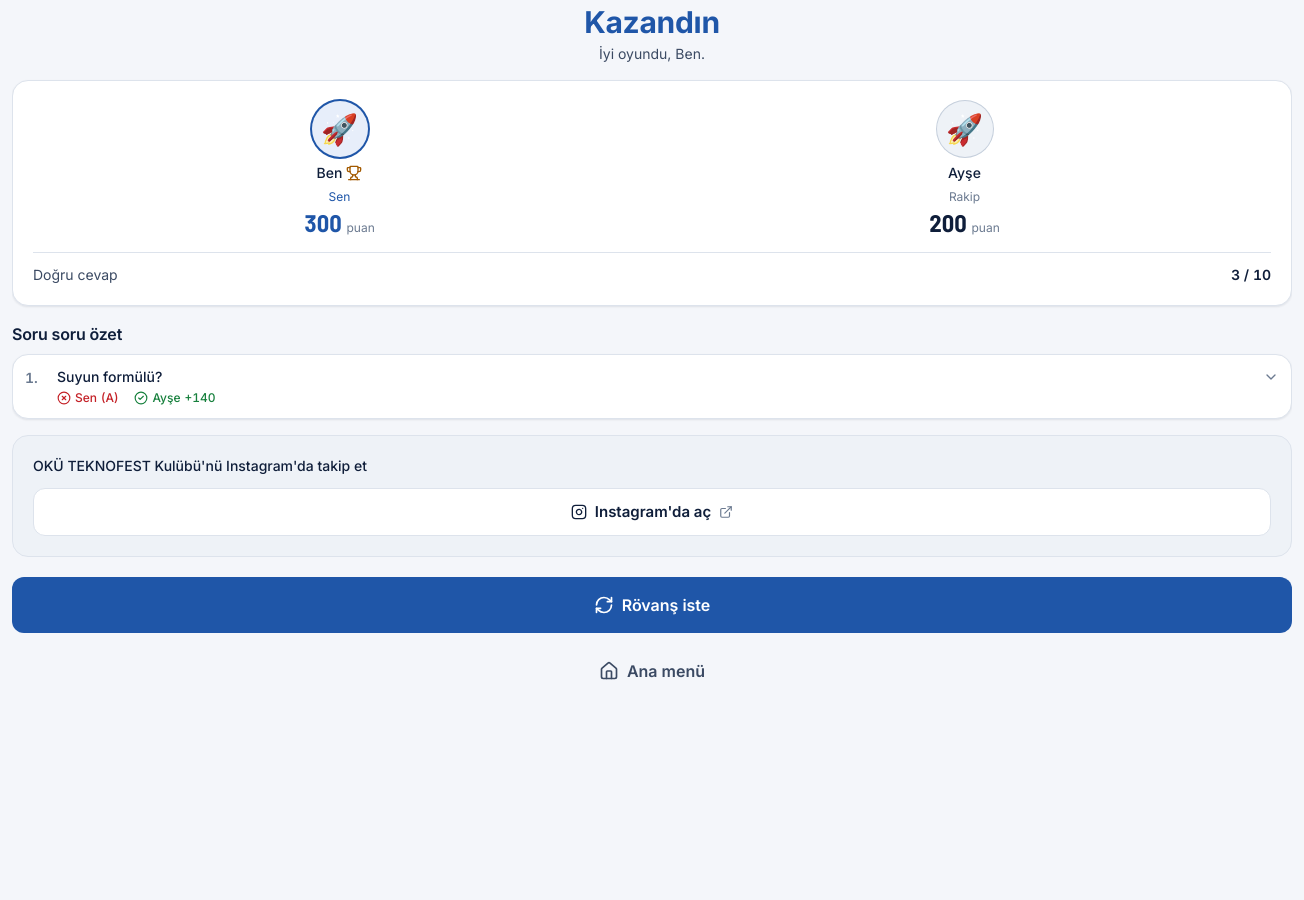
ResultScreen › maç incelemesinde açıklamayı ve doğru şıkkı gösterir
The image size is (1304, 900).
Click the text "Suyun formülü?": [110, 376] box [57,368,162,385]
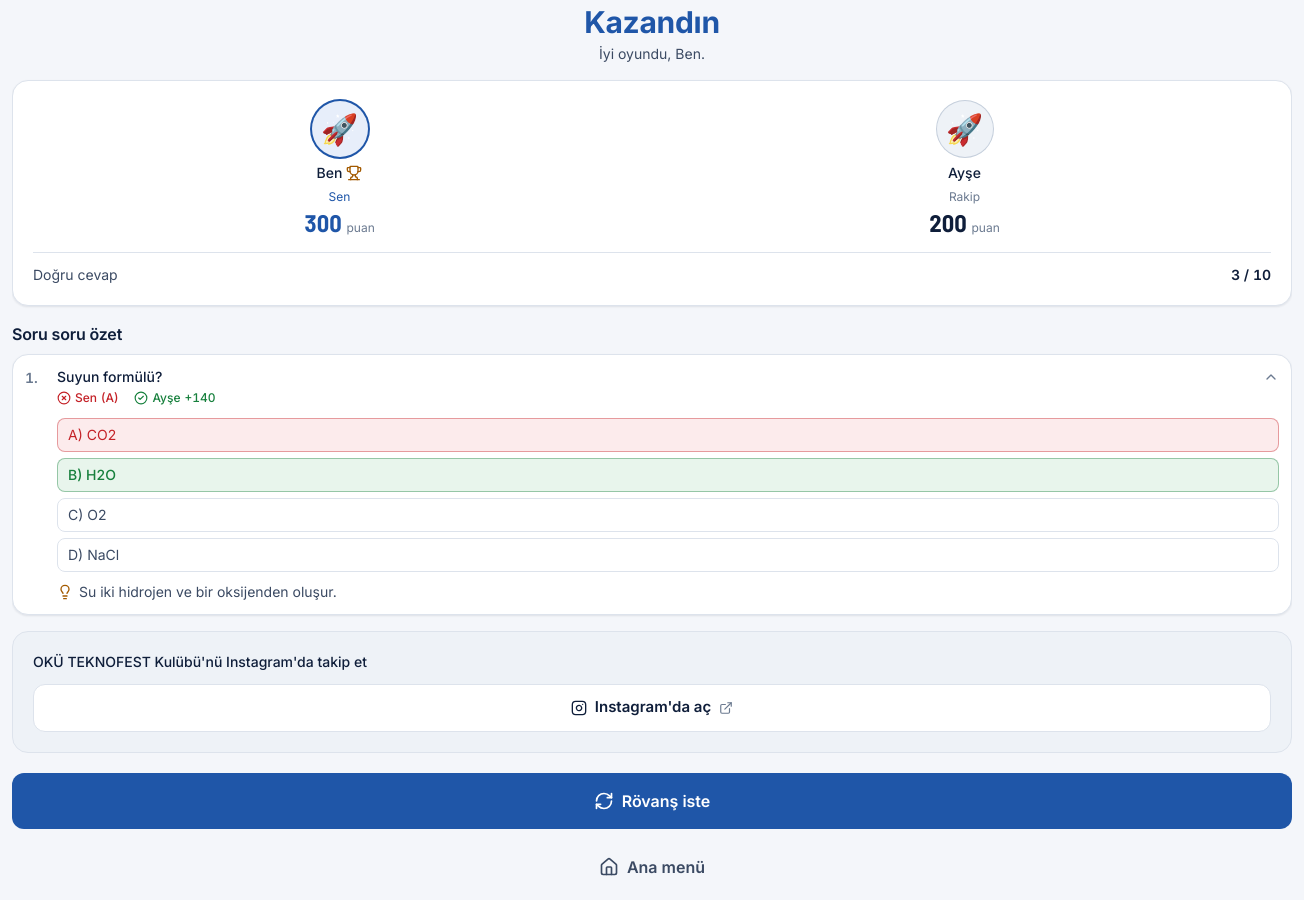
Expected: the text "Su iki hidrojen ve bir oksijenden oluşur." is shown, [79,582,337,602]
